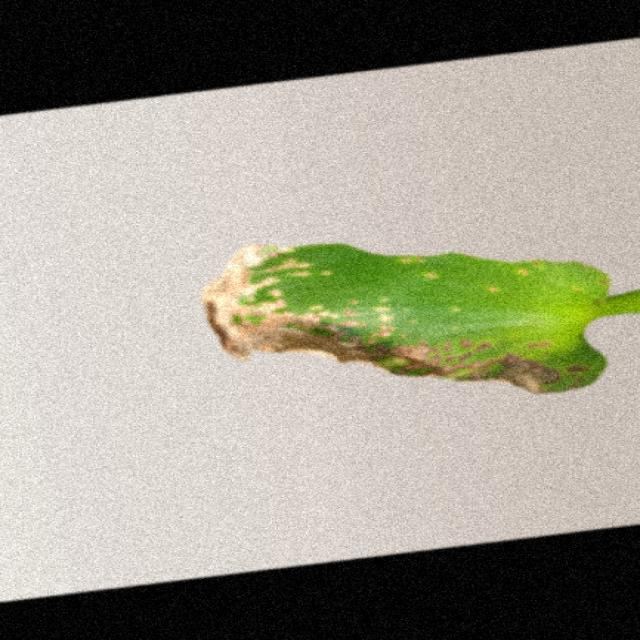daun sehat: (204, 244, 640, 392)
